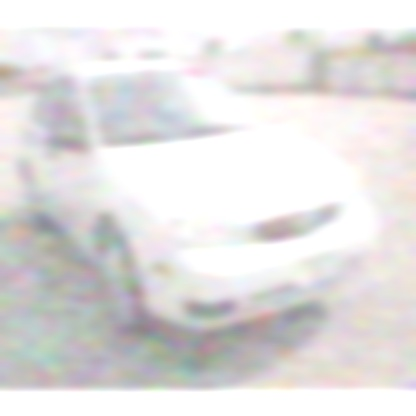Vehicle: (14, 58, 378, 341)
